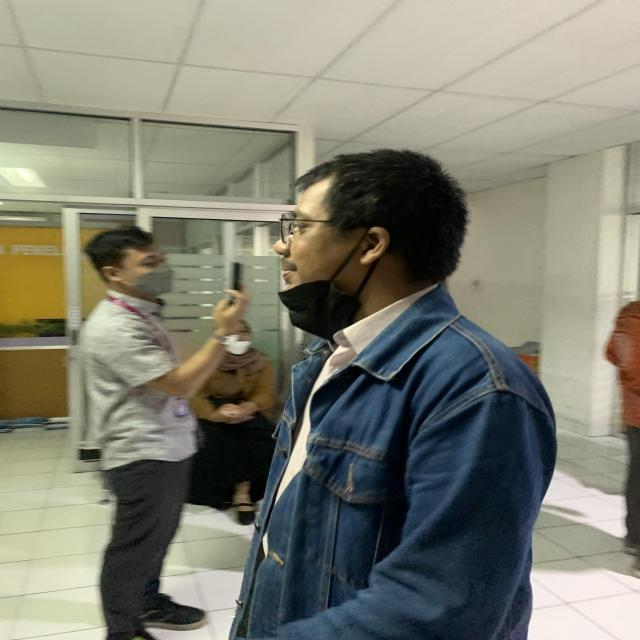hairnet: (266, 142, 482, 340)
